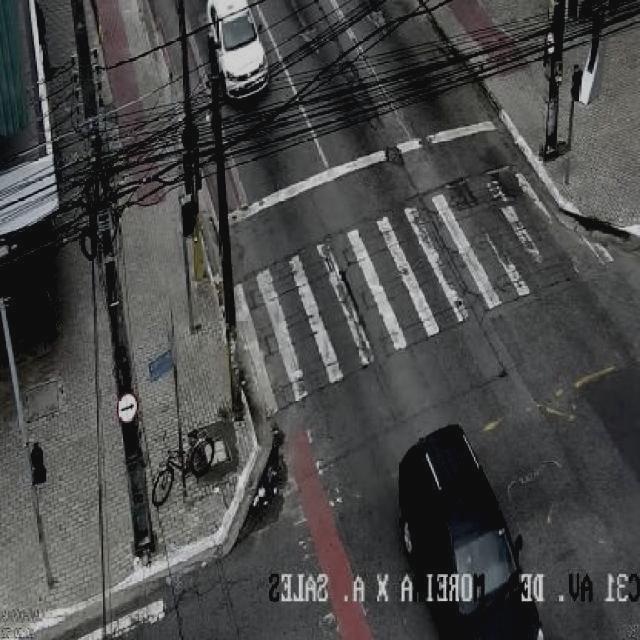Car: (389, 432, 548, 640), (211, 0, 273, 103)
Cycle: (147, 430, 214, 518)
